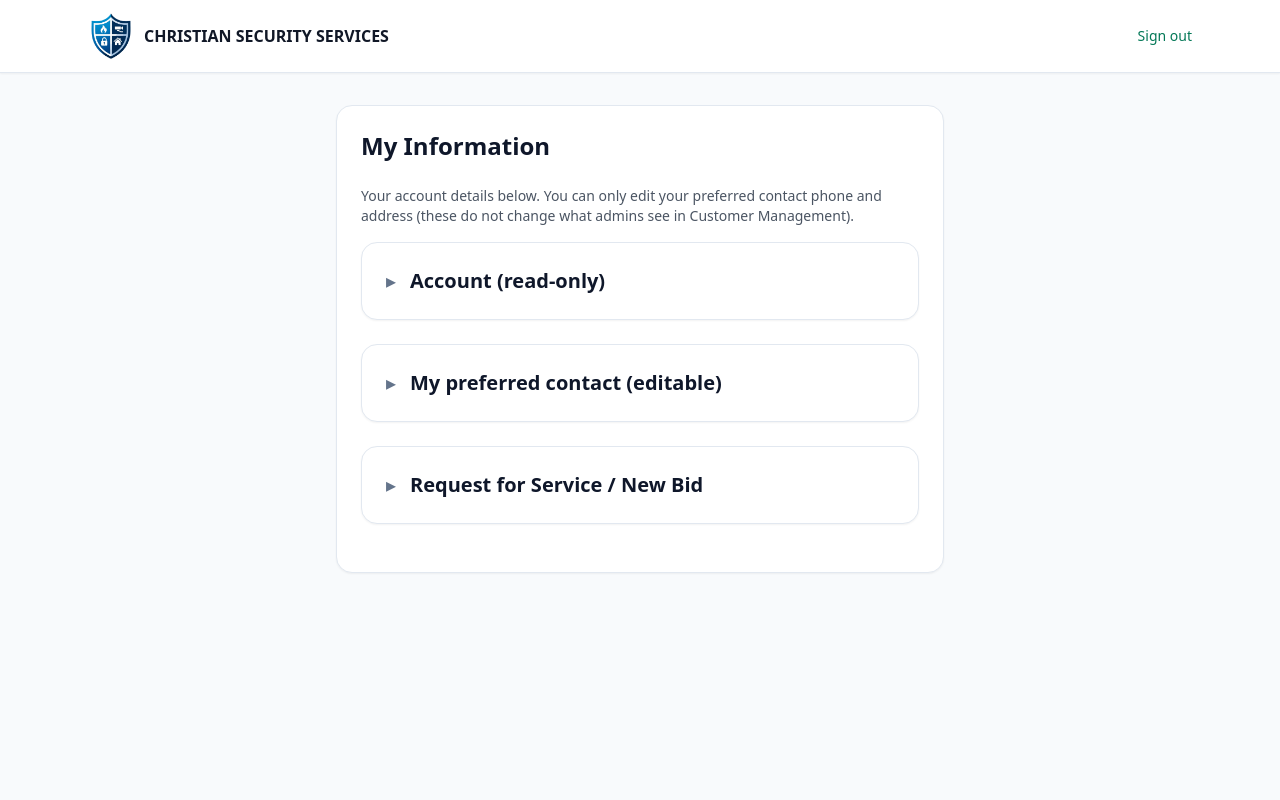
Scenario: CustomerMyInfo › should fetch and display customer info
Click the button "▸ Account (read-only)" at (496, 281), box [386,267,605,295]
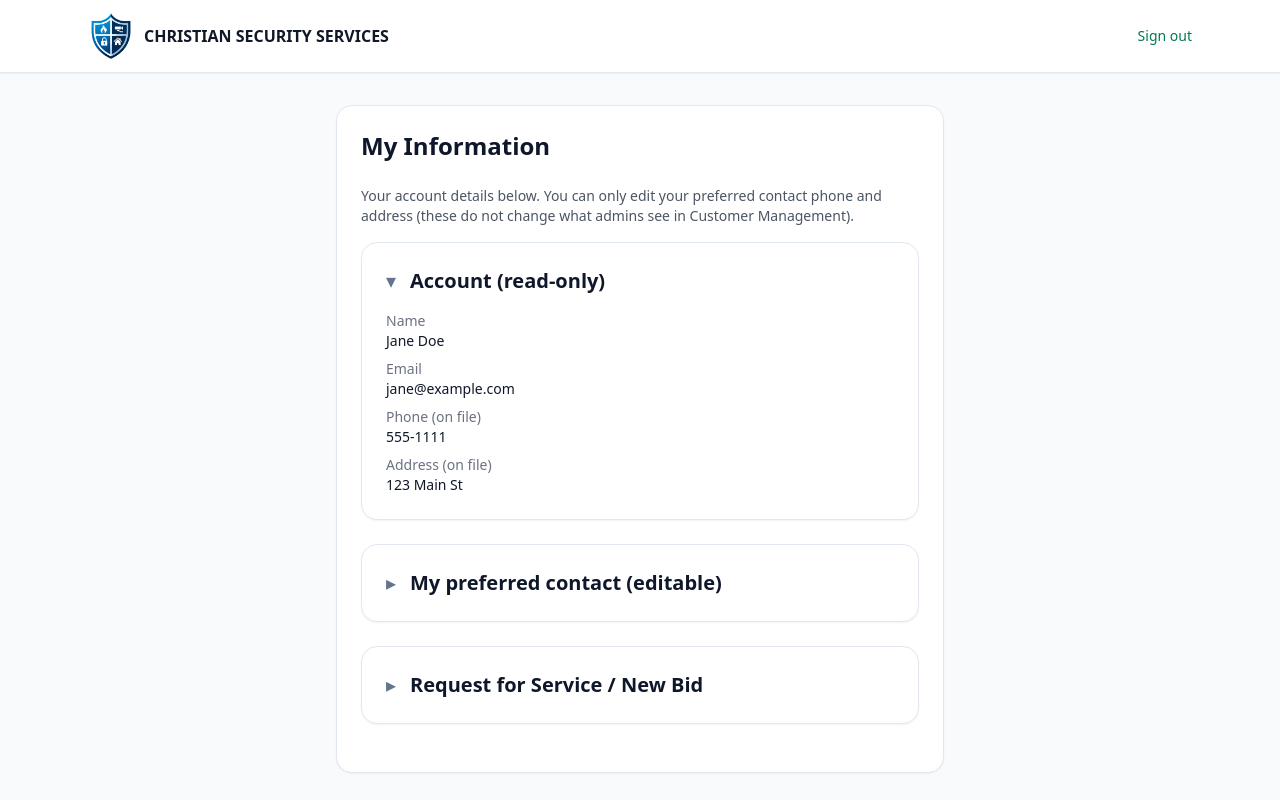
Click the button "▸ My preferred contact (editable)" at (554, 583), box [386,569,722,597]
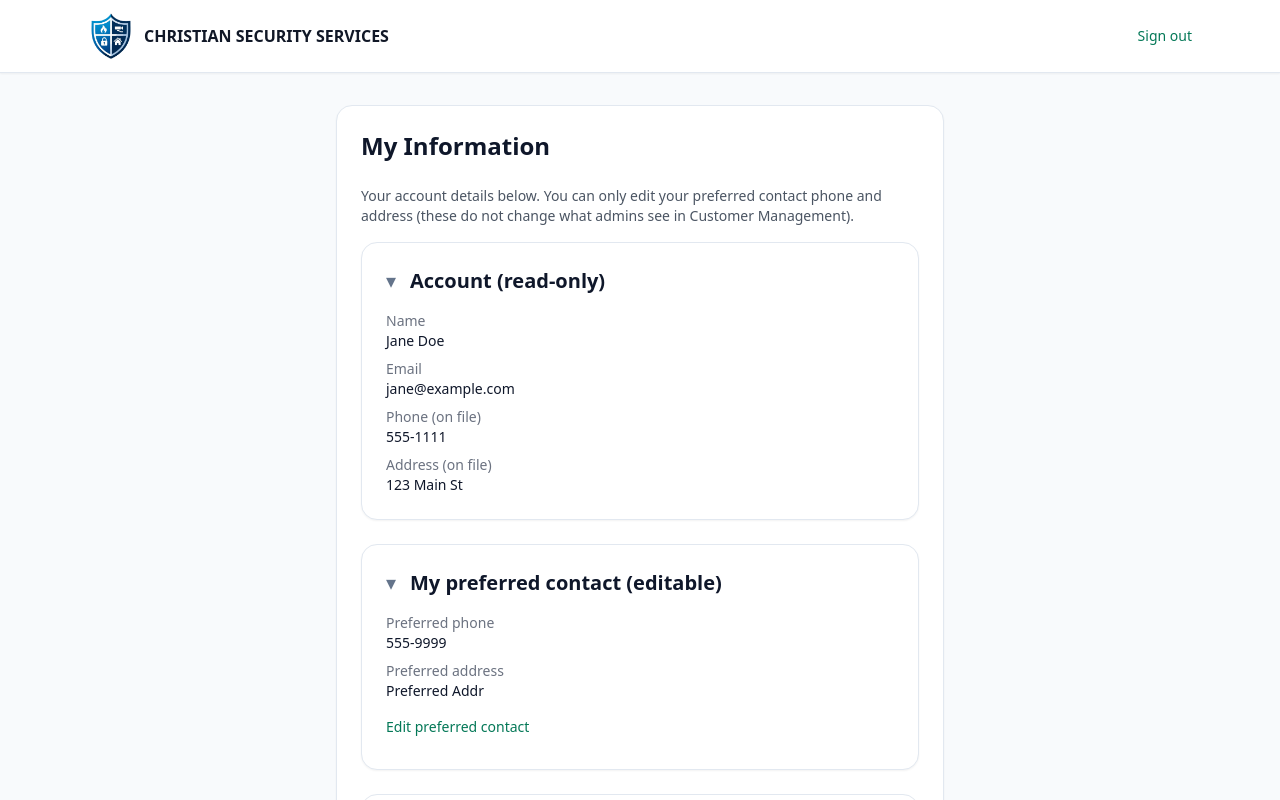
Now the text "555-1111" is shown, box [386,427,447,446]
Now the text "123 Main St" is shown, box [386,475,463,494]
Now the text "555-9999" is shown, box [386,633,447,652]
